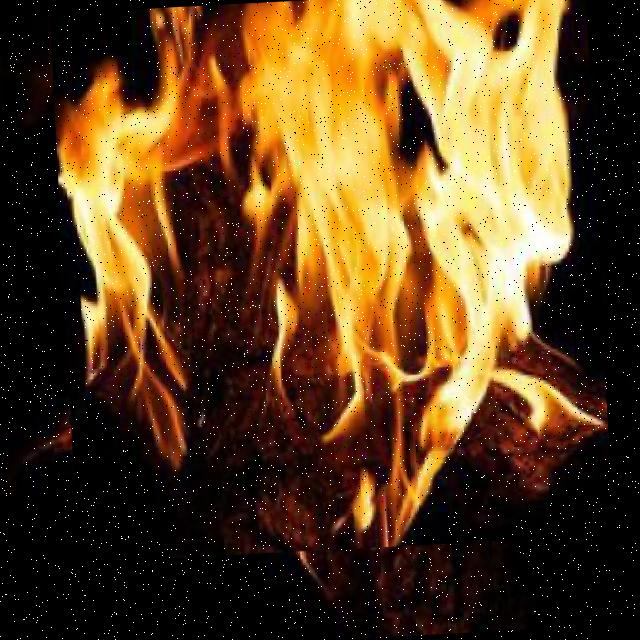fire: (49, 0, 613, 563)
